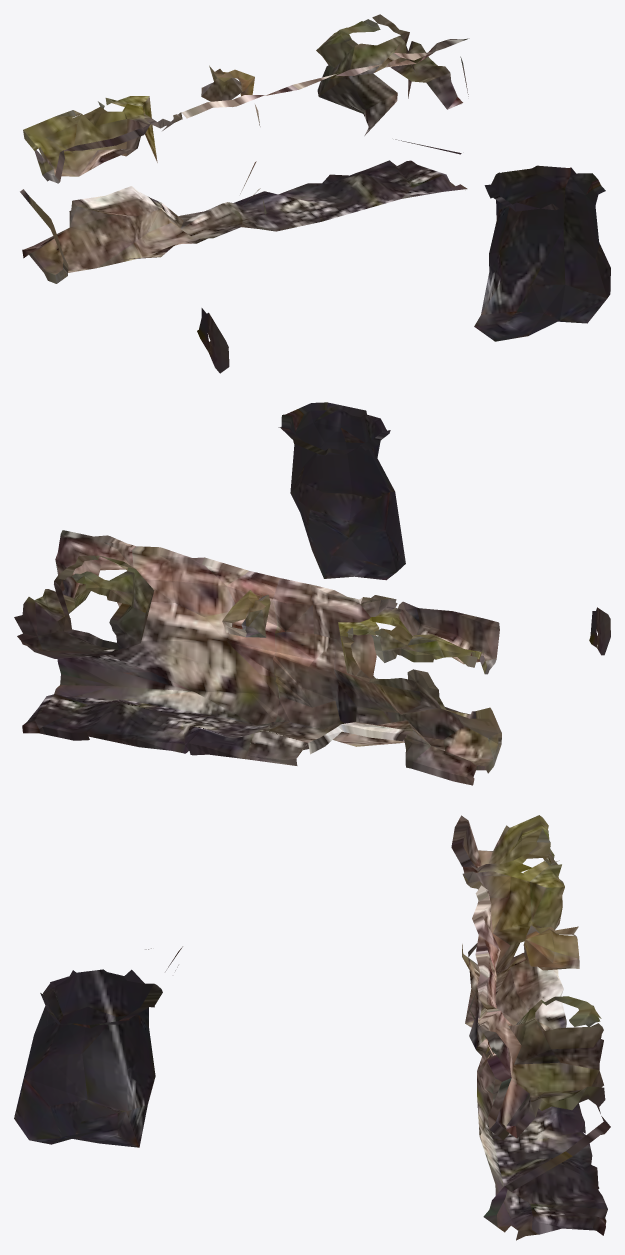
3 renders of one model, top to bottom at view 1: azimuth 30°, elevation 25°; view 2: azimuth 150°, elevation 25°; view 3: azimuth 270°, elevation 25°, orthographic. The views are drawn at different scales.
Visible parts, largest first — view 1: Mesh_0; view 2: Mesh_0; view 3: Mesh_0.
Boxes of the visible parts, x1,y1,x2,y2 form: Mesh_0: [20, 14, 610, 373]; Mesh_0: [14, 402, 610, 785]; Mesh_0: [14, 815, 610, 1240].
Bounding box in the file's own units: 30.18 × 11.13 × 31.15.
1 material, 1 textured.
